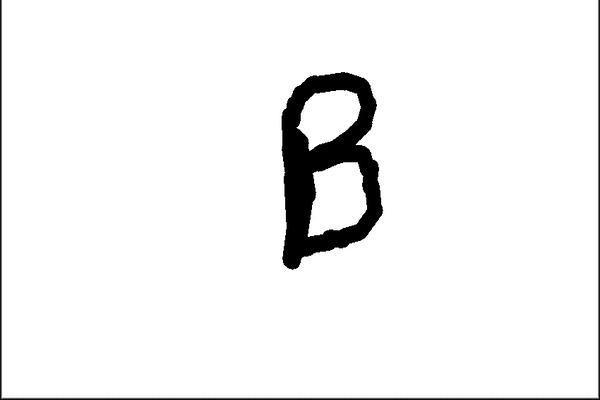B: (270, 64, 388, 276)
